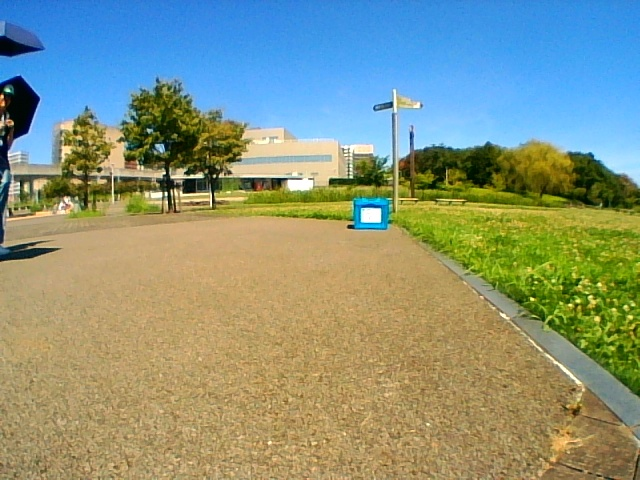blue_box: (355, 197, 385, 228)
tag: (362, 207, 381, 223)
